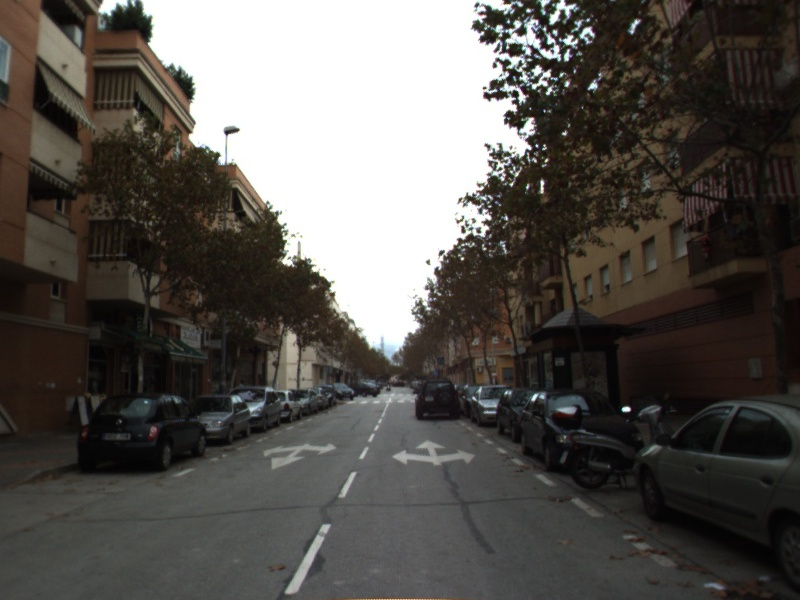STRAIGHT_LEFT_RIGHT: (390, 438, 477, 467)
